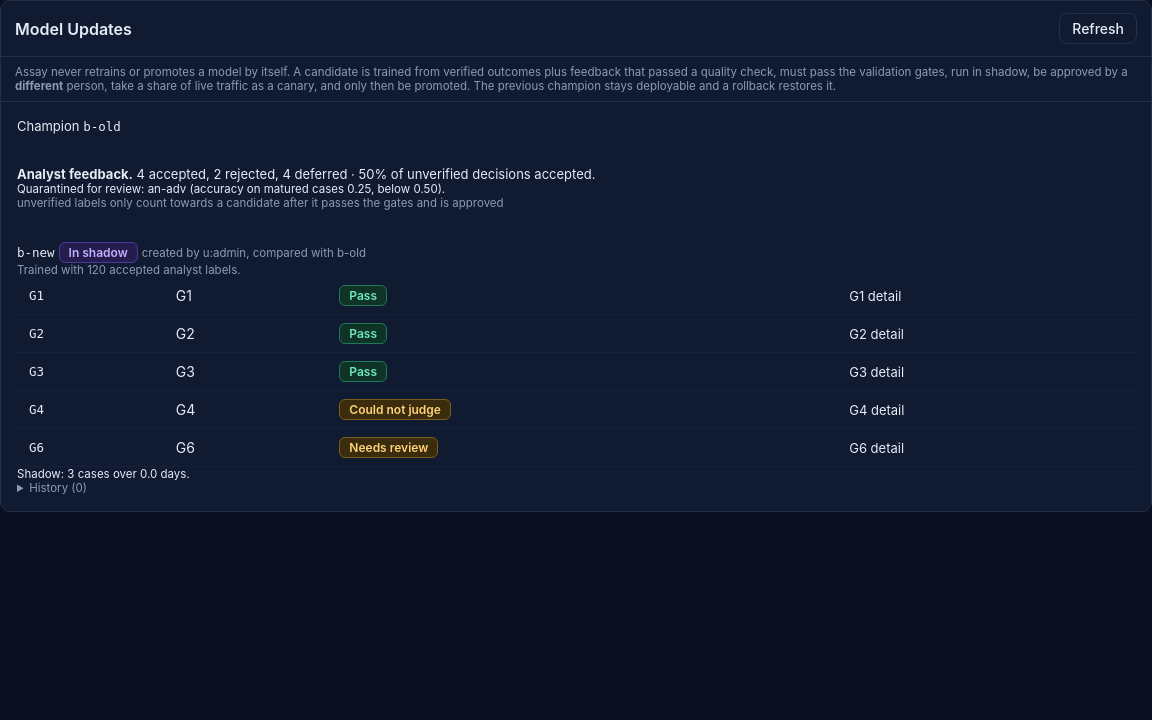
Scenario: ModelUpdates › refreshes on request, so a running shadow can be watched
Expected: the text with test id "shadow-report" shows "3 cases", [67,467,186,481]
What coordinates should you click on to do the following:
click the button "Refresh"
I would click on:
 (1098, 28)
Its box is [1059,13,1137,44].
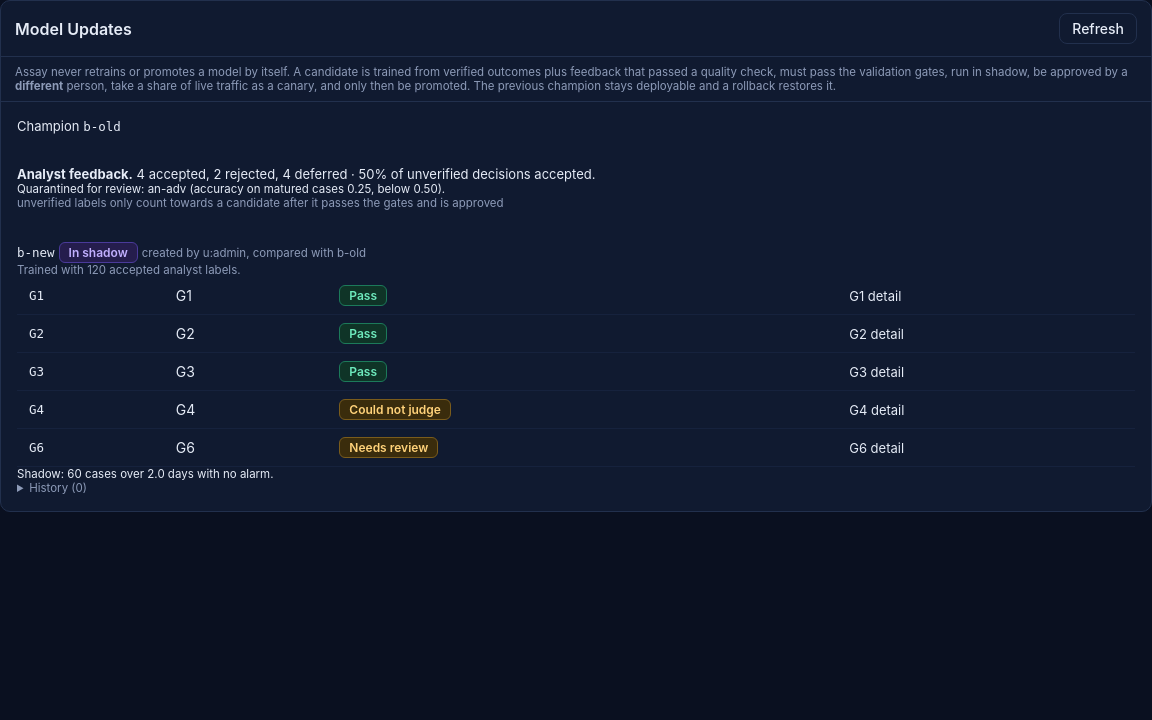
Result: the text with test id "shadow-report" shows "60 cases" at [67,467,270,481]
